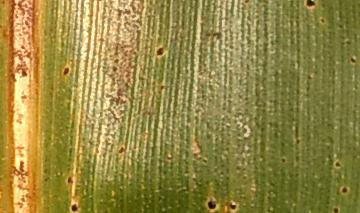tarspot: (58, 63, 74, 79), (205, 197, 219, 212), (64, 174, 77, 186), (68, 201, 80, 213), (154, 45, 165, 57), (340, 184, 351, 196), (303, 1, 318, 9), (333, 159, 343, 170), (347, 55, 358, 64), (330, 205, 341, 213)
